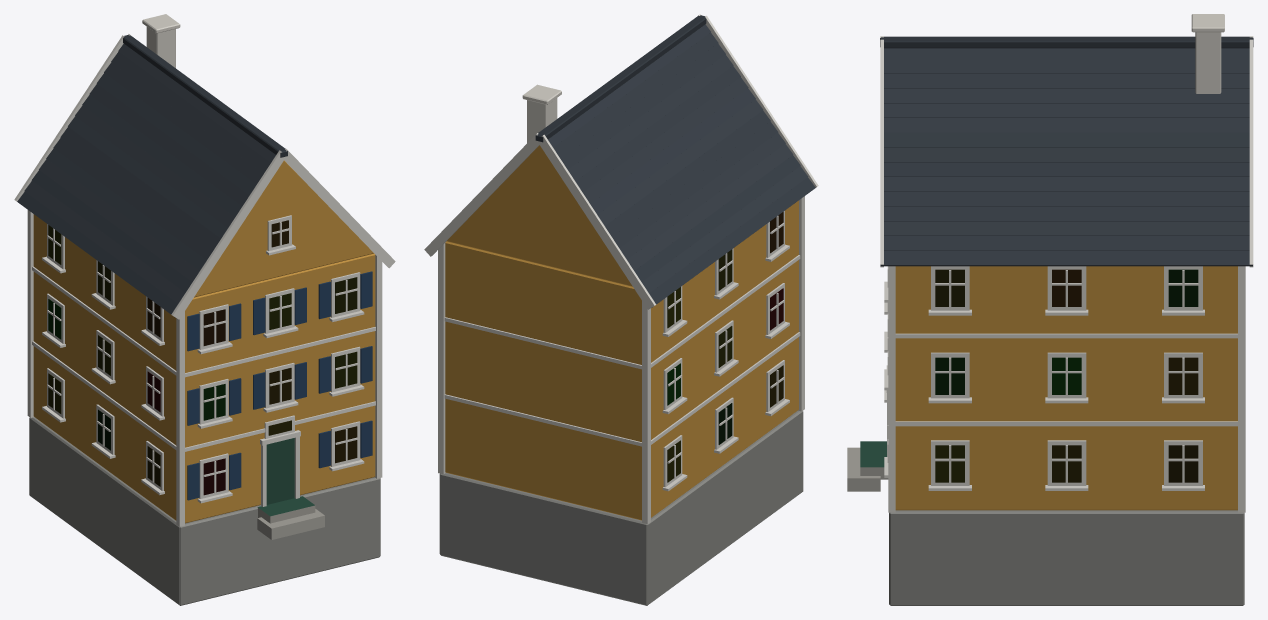
File: house_b_ochre_slate_tall.glb
3 renders of one model, left to right at view 1: azimuth 30°, elevation 25°; view 2: azimuth 150°, elevation 25°; view 3: azimuth 270°, elevation 25°, orthographic. The views are drawn at different scales.
Parts seen in each view (by area): view 1: house_b_ochre_slate_tall_walls, house_b_ochre_slate_tall_roof, house_b_ochre_slate_tall_plinth, house_b_ochre_slate_tall_trim, house_b_ochre_slate_tall_glass, house_b_ochre_slate_tall_shutters, house_b_ochre_slate_tall_door, house_b_ochre_slate_tall_ridge, house_b_ochre_slate_tall_chimney; view 2: house_b_ochre_slate_tall_walls, house_b_ochre_slate_tall_roof, house_b_ochre_slate_tall_plinth, house_b_ochre_slate_tall_trim, house_b_ochre_slate_tall_glass, house_b_ochre_slate_tall_ridge, house_b_ochre_slate_tall_chimney; view 3: house_b_ochre_slate_tall_roof, house_b_ochre_slate_tall_walls, house_b_ochre_slate_tall_plinth, house_b_ochre_slate_tall_trim, house_b_ochre_slate_tall_glass, house_b_ochre_slate_tall_ridge, house_b_ochre_slate_tall_chimney, house_b_ochre_slate_tall_door.
Part boxes in pixels (x1,y1,x2,y2): house_b_ochre_slate_tall_walls: [33, 160, 375, 523]; house_b_ochre_slate_tall_roof: [17, 44, 275, 317]; house_b_ochre_slate_tall_plinth: [29, 417, 380, 605]; house_b_ochre_slate_tall_trim: [14, 34, 395, 526]; house_b_ochre_slate_tall_glass: [48, 220, 357, 495]; house_b_ochre_slate_tall_shutters: [187, 271, 372, 500]; house_b_ochre_slate_tall_door: [257, 438, 324, 539]; house_b_ochre_slate_tall_ridge: [123, 35, 287, 157]; house_b_ochre_slate_tall_chimney: [142, 14, 180, 67]; house_b_ochre_slate_tall_walls: [445, 145, 798, 520]; house_b_ochre_slate_tall_roof: [548, 24, 815, 307]; house_b_ochre_slate_tall_plinth: [439, 410, 803, 605]; house_b_ochre_slate_tall_trim: [424, 14, 818, 523]; house_b_ochre_slate_tall_glass: [667, 212, 783, 482]; house_b_ochre_slate_tall_ridge: [535, 15, 706, 142]; house_b_ochre_slate_tall_chimney: [522, 84, 561, 142]; house_b_ochre_slate_tall_roof: [880, 48, 1252, 266]; house_b_ochre_slate_tall_walls: [895, 266, 1237, 510]; house_b_ochre_slate_tall_plinth: [889, 510, 1244, 605]; house_b_ochre_slate_tall_trim: [880, 36, 1253, 512]; house_b_ochre_slate_tall_glass: [935, 269, 1198, 482]; house_b_ochre_slate_tall_ridge: [880, 36, 1253, 48]; house_b_ochre_slate_tall_chimney: [1191, 14, 1224, 93]; house_b_ochre_slate_tall_door: [847, 441, 888, 491].
Size of the model in its own units: 8.13 by 15.94 by 10.92.
